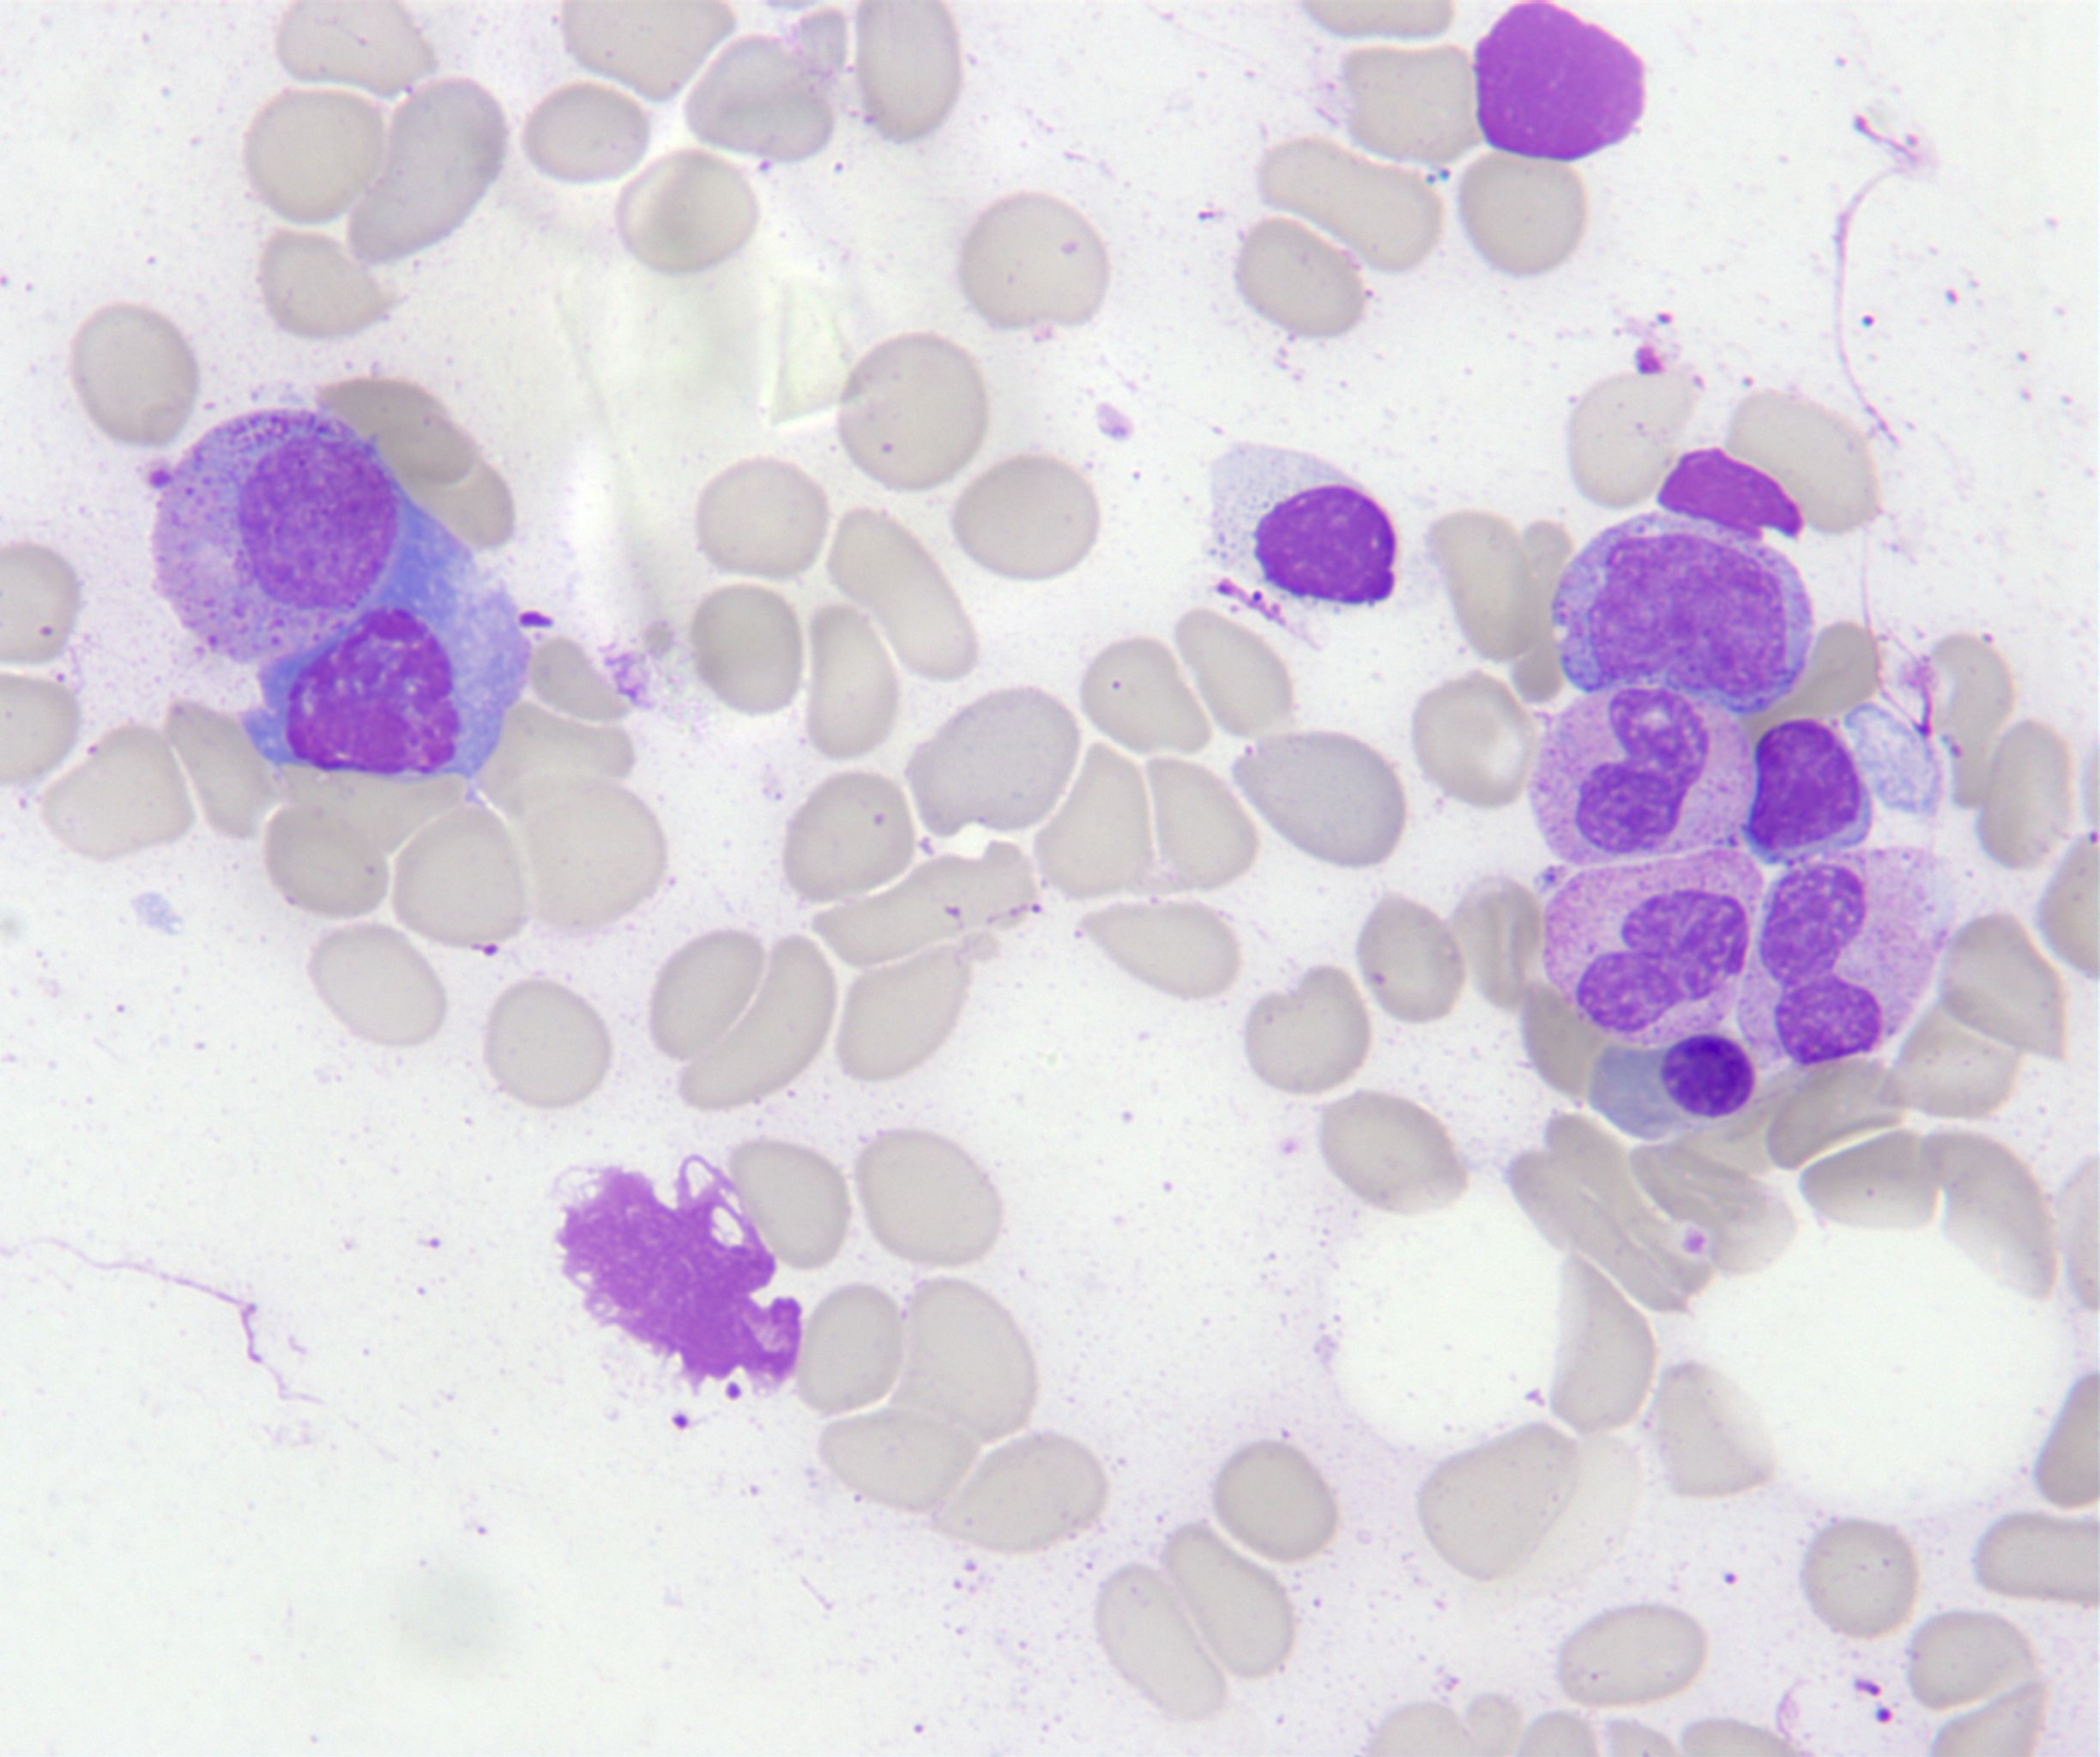24: (1587, 1036, 1755, 1139)
3: (153, 410, 399, 667)
32: (1210, 443, 1399, 602), (1742, 721, 1873, 862)
4: (1528, 686, 1756, 871)
42: (1551, 513, 1812, 712)
5: (1735, 843, 1957, 1064), (1544, 850, 1756, 1045)
52: (239, 480, 530, 776)
x: (555, 1152, 799, 1394), (1474, 3, 1645, 159), (1660, 447, 1803, 541)
